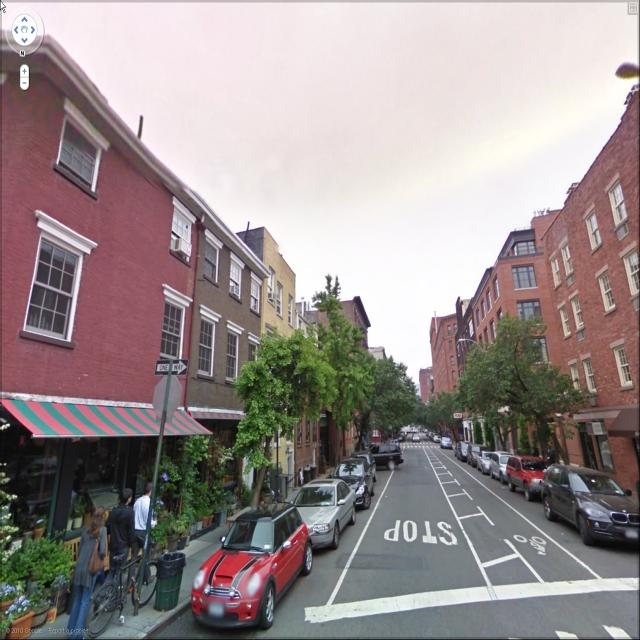b_1: (1, 20, 180, 468), (550, 94, 640, 456), (150, 219, 263, 449)
b_2: (469, 213, 554, 470), (282, 303, 382, 464), (250, 225, 304, 510), (451, 296, 498, 436), (434, 278, 474, 428), (408, 351, 440, 425)
